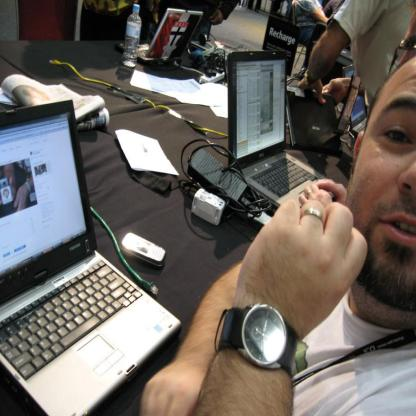board: (0, 98, 172, 413), (226, 50, 338, 205), (113, 7, 204, 66), (286, 86, 343, 152), (342, 64, 368, 136), (121, 2, 142, 68)
